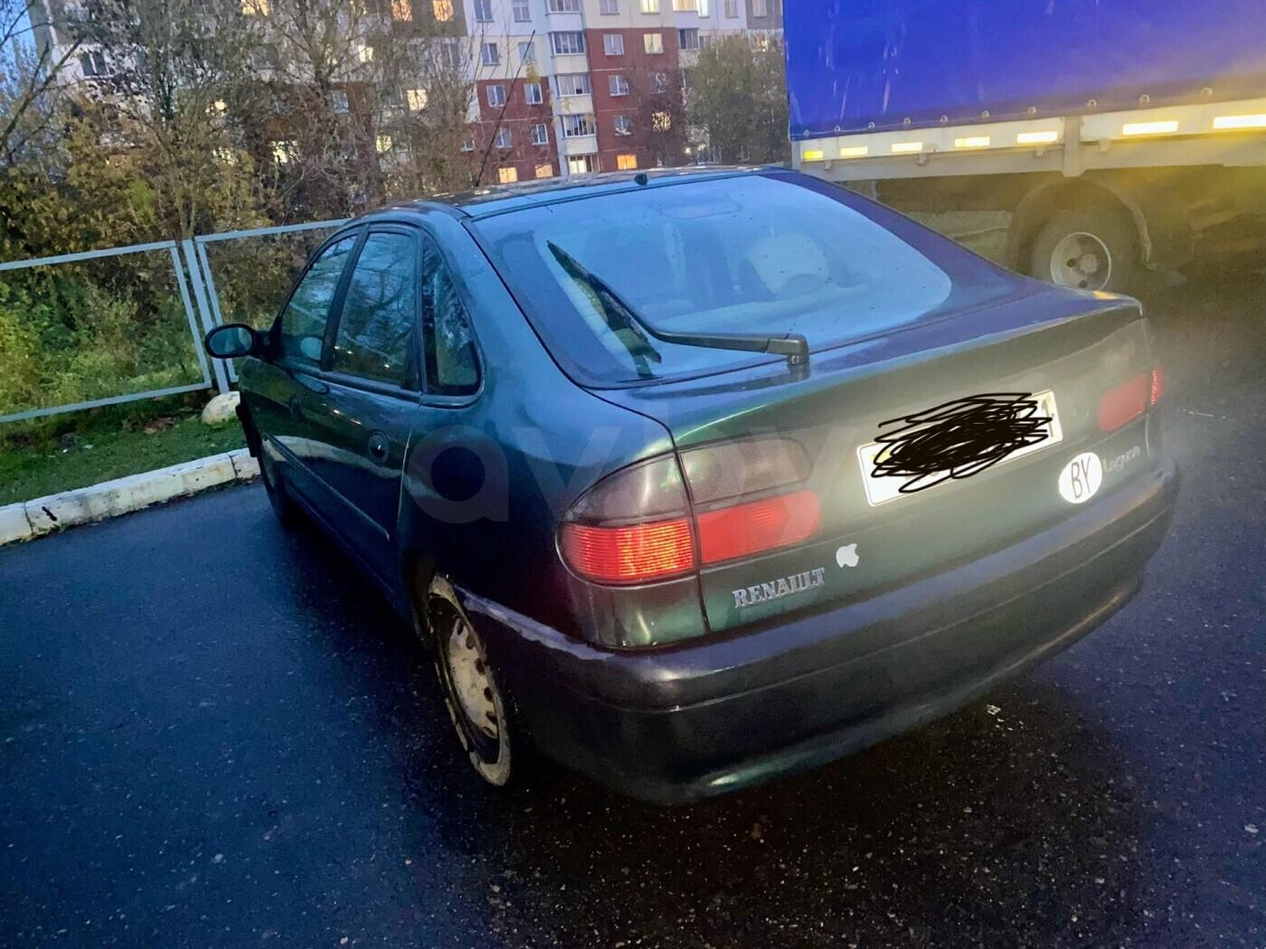Lahuna_1993-1999: (220, 165, 1177, 837)
